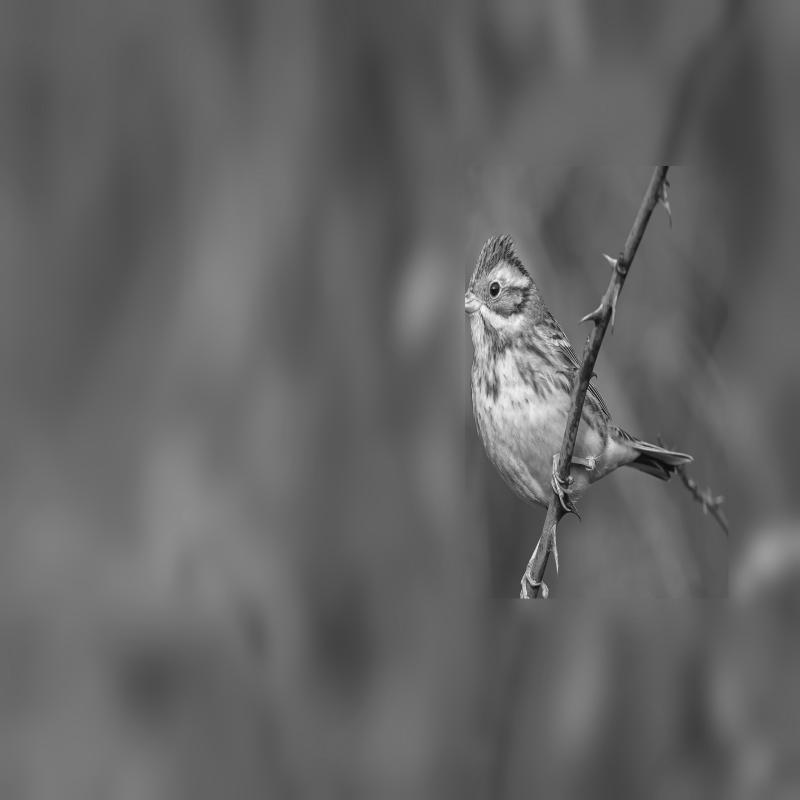rustic bunting: (459, 232, 698, 510)
